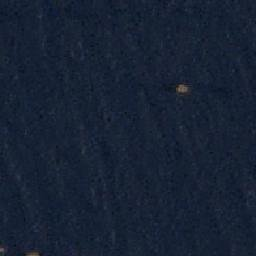debris: (175, 84, 190, 94)
